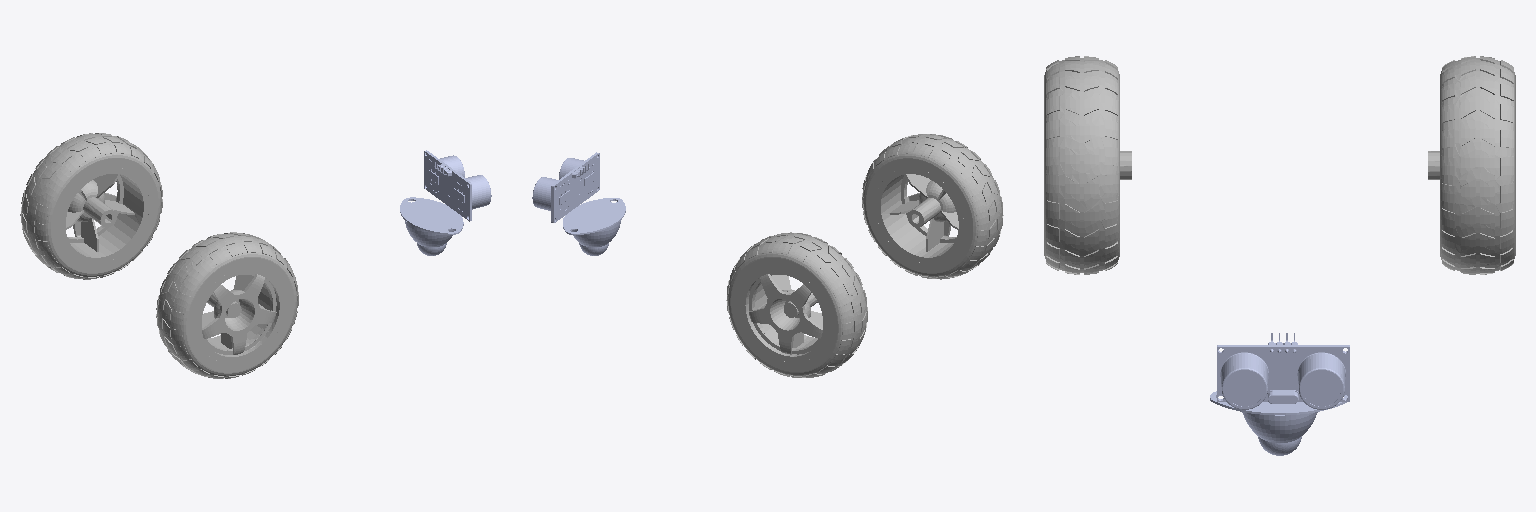
The robot description file, URDF, robot "Tharry1":
<?xml version="1.0"?>
<!-- This URDF was automatically created by SolidWorks to URDF Exporter! Originally created by [author] ([email redacted]) 
     Commit Version: 1.6.0-4-g7f85cfe  Build Version: 1.6.7995.38578
     For more information, please see http://wiki.ros.org/sw_urdf_exporter -->
<robot
  name="Tharry1">
  <link
    name="base_link">
    <inertial>
      <origin
        xyz="-0.000215514088654669 -0.000716315380817006 0.0237606201971868"
        rpy="0 0 0" />
      <mass
        value="0.406103761603504" />
      <inertia
        ixx="0.0001"
        ixy="0"
        ixz="0"
        iyy="0.0003"
        iyz="0"
        izz="0.0002" />
    </inertial>
    <visual>
      <origin
        xyz="0 0 0"
        rpy="0 0 0" />
      <geometry>
        <mesh
          filename="package://Tharry1/meshes/base_link.STL" />
      </geometry>
      <material
        name="">
        <color
          rgba="0 0.0352941176470588 0.968627450980392 1" />
      </material>
    </visual>
    <collision>
      <origin
        xyz="0 0 0"
        rpy="0 0 0" />
      <geometry>
        <mesh
          filename="package://Tharry1/meshes/base_link.STL" />
      </geometry>
    </collision>
  </link>
  <link
    name="left_link">
    <inertial>
      <origin
        xyz="1.35729605749146E-07 -2.06106699155578E-08 0.000763150006826252"
        rpy="0 0 0" />
      <mass
        value="0.0310322138231807" />
      <inertia
        ixx="0.0002"
        ixy="0"
        ixz="0"
        iyy="0.0002"
        iyz="0"
        izz="0.0001" />
    </inertial>
    <visual>
      <origin
        xyz="0 0 0"
        rpy="0 0 0" />
      <geometry>
        <mesh
          filename="package://Tharry1/meshes/left_link.STL" />
      </geometry>
      <material
        name="">
        <color
          rgba="0.752941176470588 0.752941176470588 0.752941176470588 1" />
      </material>
    </visual>
    <collision>
      <origin
        xyz="0 0 0"
        rpy="0 0 0" />
      <geometry>
        <mesh
          filename="package://Tharry1/meshes/left_link.STL" />
      </geometry>
    </collision>
  </link>
  <joint
    name="left_joint"
    type="continuous">
    <origin
      xyz="-0.0588 0.0667 0.014"
      rpy="-1.5708 0 0" />
    <parent
      link="base_link" />
    <child
      link="left_link" />
    <axis
      xyz="0 0 1" />
    <limit
      lower="0"
      upper="0"
      effort="100"
      velocity="100" />
    <dynamics
      damping="0.1"
      friction="0.1" />
  </joint>
  <link
    name="right_link">
    <inertial>
      <origin
        xyz="-1.35729605776902E-07 -2.0610669920762E-08 -0.00076315000682646"
        rpy="0 0 0" />
      <mass
        value="0.0310322138231812" />
      <inertia
        ixx="0.0002"
        ixy="0"
        ixz="0"
        iyy="0.0002"
        iyz="0"
        izz="0.0001" />
    </inertial>
    <visual>
      <origin
        xyz="0 0 0"
        rpy="0 0 0" />
      <geometry>
        <mesh
          filename="package://Tharry1/meshes/right_link.STL" />
      </geometry>
      <material
        name="">
        <color
          rgba="0.752941176470588 0.752941176470588 0.752941176470588 1" />
      </material>
    </visual>
    <collision>
      <origin
        xyz="0 0 0"
        rpy="0 0 0" />
      <geometry>
        <mesh
          filename="package://Tharry1/meshes/right_link.STL" />
      </geometry>
    </collision>
  </link>
  <joint
    name="right_joint"
    type="continuous">
    <origin
      xyz="-0.058826 -0.0667 0.014"
      rpy="-1.5708 0 0" />
    <parent
      link="base_link" />
    <child
      link="right_link" />
    <axis
      xyz="0 0 1" />
    <limit
      lower="0"
      upper="0"
      effort="100"
      velocity="100" />
    <dynamics
      damping="0.1"
      friction="0.1" />
  </joint>
  <link
    name="castor_wheel_Link">
    <inertial>
      <origin
        xyz="-1.75296463446995E-06 -0.0107839823055964 -3.52745917198138E-09"
        rpy="0 0 0" />
      <mass
        value="0.0175668126401541" />
      <inertia
        ixx="0.0002"
        ixy="0"
        ixz="0"
        iyy="0.0002"
        iyz="0"
        izz="0.0001" />
    </inertial>
    <visual>
      <origin
        xyz="0 0 0"
        rpy="0 0 0" />
      <geometry>
        <mesh
          filename="package://Tharry1/meshes/castor_wheel_Link.STL" />
      </geometry>
      <material
        name="">
        <color
          rgba="0.792156862745098 0.819607843137255 0.933333333333333 1" />
      </material>
    </visual>
    <collision>
      <origin
        xyz="0 0 0"
        rpy="0 0 0" />
      <geometry>
        <mesh
          filename="package://Tharry1/meshes/castor_wheel_Link.STL" />
      </geometry>
    </collision>
  </link>
  <joint
    name="castor_wheel_joint"
    type="fixed">
    <origin
      xyz="0.09546 0 -0.0008"
      rpy="1.5708 0 1.5728" />
    <parent
      link="base_link" />
    <child
      link="castor_wheel_Link" />
    <axis
      xyz="0 0 0" />
  </joint>
  <link
    name="ultrasonido_Link">
    <inertial>
      <origin
        xyz="4.20166807835057E-06 -5.26817094704743E-05 0.00567658489127215"
        rpy="0 0 0" />
      <mass
        value="0.00622730507584706" />
      <inertia
        ixx="0.0002"
        ixy="0"
        ixz="0"
        iyy="0.0002"
        iyz="0"
        izz="0.0001"/>
    </inertial>
    <visual>
      <origin
        xyz="0 0 0"
        rpy="0 0 0" />
      <geometry>
        <mesh
          filename="package://Tharry1/meshes/ultrasonido_Link.STL" />
      </geometry>
      <material
        name="">
        <color
          rgba="0.792156862745098 0.819607843137255 0.933333333333333 1" />
      </material>
    </visual>
    <collision>
      <origin
        xyz="0 0 0"
        rpy="0 0 0" />
      <geometry>
        <mesh
          filename="package://Tharry1/meshes/ultrasonido_Link.STL" />
      </geometry>
    </collision>
  </link>
  <joint
    name="ultrasonido_joint"
    type="fixed">
    <origin
      xyz="0.1047 0.0011113 0.01325"
      rpy="1.5708 0 1.5708" />
    <parent
      link="base_link" />
    <child
      link="ultrasonido_Link" />
    <axis
      xyz="0 0 0" />
  </joint>

  <gazebo reference="base_link">
    <mu1>200</mu1>
    <mu2>200</mu2>
    <kp>1000000</kp>
    <kd>1</kd>
    <material>Gazebo/Yellow</material>
  </gazebo>

  <gazebo reference="left_link">
    <mu1>200</mu1>
    <mu2>200</mu2>
    <kp>1000000</kp>
    <kd>1</kd>
    <material>Gazebo/Gray</material>
  </gazebo>

  <gazebo reference="right_link">
    <mu1>200</mu1>
    <mu2>200</mu2>
    <kp>1000000</kp>
    <kd>1</kd>
    <material>Gazebo/Gray</material>
  </gazebo>

  <gazebo reference="castor_wheel_Link">
    <mu1>0</mu1>
    <mu2>0</mu2>
    <kp>1000000</kp>
    <kd>1</kd>
    <material>Gazebo/Gray</material>
  </gazebo>

  <gazebo reference="ultrasonido_Link">
    <mu1>200</mu1>
    <mu2>200</mu2>
    <kp>1000000</kp>
    <kd>1</kd>
    <material>Gazebo/Gray</material>
  </gazebo>
  
   <transmission name="left_trans">
    <type>transmission_interface/SimpleTransmission</type>
    <joint name="left_joint">
      <hardwareInterface>hardware_interface/PositionJointInterface</hardwareInterface>
    </joint>
    <actuator name="left_motor">
      <mechanicalReduction>1</mechanicalReduction>
    </actuator>
   </transmission>
    
    
   <transmission name="right_trans">
    <type>transmission_interface/SimpleTransmission</type>
    <joint name="right_joint">
      <hardwareInterface>hardware_interface/PositionJointInterface</hardwareInterface>
    </joint>
    <actuator name="right_motor">
      <mechanicalReduction>1</mechanicalReduction>
    </actuator>
   </transmission>

  <gazebo>
    <plugin name="two_wheeled_robot_diff_drive" filename="libgazebo_ros_diff_drive.so">
 
      <update_rate>100</update_rate>
      
      <!-- wheels -->
      <left_joint>left_joint</left_joint>
      <right_joint>right_joint</right_joint>
 
      <!-- kinematics -->
      <wheel_separation>0.1</wheel_separation>
      <wheel_diameter>0.07</wheel_diameter>
 
      <!-- limits -->
      <max_wheel_torque>20</max_wheel_torque>
      <max_wheel_acceleration>20.0</max_wheel_acceleration>
 
      <!-- Receive velocity commands on this ROS topic -->
      <command_topic>cmd_vel</command_topic>
 
      <!-- output -->
      <!-- When false, publish no wheel odometry data to a ROS topic -->
      <publish_odom>true</publish_odom>
 
      <!-- When true, publish coordinate transform from odom to base_footprint -->
      <!-- I usually use the robot_localization package to publish this transform -->  
      <publish_odom_tf>false</publish_odom_tf>
     
      <!-- When true, publish coordinate transform from base_link to the wheels -->
      <!-- The robot_state_publisher package is often used to publish this transform -->  
      <publish_wheel_tf>true</publish_wheel_tf>
 
      <odometry_topic>odom</odometry_topic>
      <odometry_frame>odom_link</odometry_frame>
      <robot_base_frame>base_link</robot_base_frame>
 
      <odometry_source>1</odometry_source>
      <ros>
        <remapping>odom:=wheel/odometry</remapping>
      </ros>
    </plugin>
  
  </gazebo>

</robot>

--- Render facts (derived) ---
Views: 3 orthographic renders of the robot side by side, from view 1: azimuth 30°, elevation 25°; view 2: azimuth 150°, elevation 25°; view 3: azimuth 270°, elevation 25°.
Robot: Tharry1 — 5 links, 4 joints (2 continuous, 2 fixed); root link base_link; default pose: every joint at zero.
Visible links, largest first — view 1: left_link, right_link, ultrasonido_Link, castor_wheel_Link; view 2: right_link, left_link, ultrasonido_Link, castor_wheel_Link; view 3: left_link, right_link, ultrasonido_Link, castor_wheel_Link.
Boxes of the visible links, box(x1,y1,x2,y2) form: left_link: box(20, 133, 162, 279); right_link: box(156, 232, 298, 378); ultrasonido_Link: box(424, 150, 491, 221); castor_wheel_Link: box(400, 197, 463, 255); right_link: box(862, 134, 1003, 279); left_link: box(726, 232, 867, 377); ultrasonido_Link: box(532, 152, 599, 222); castor_wheel_Link: box(563, 198, 625, 255); left_link: box(1428, 56, 1515, 274); right_link: box(1044, 56, 1131, 274); ultrasonido_Link: box(1217, 333, 1349, 409); castor_wheel_Link: box(1210, 391, 1347, 455).
Size in the robot's own frame: 0.2139 by 0.1588 by 0.0737 metres.
Meshes: 5 distinct files referenced, 4 mesh visuals loaded (4 binary STL); not drawn: 1 (reference not matched to a file when rendering).
